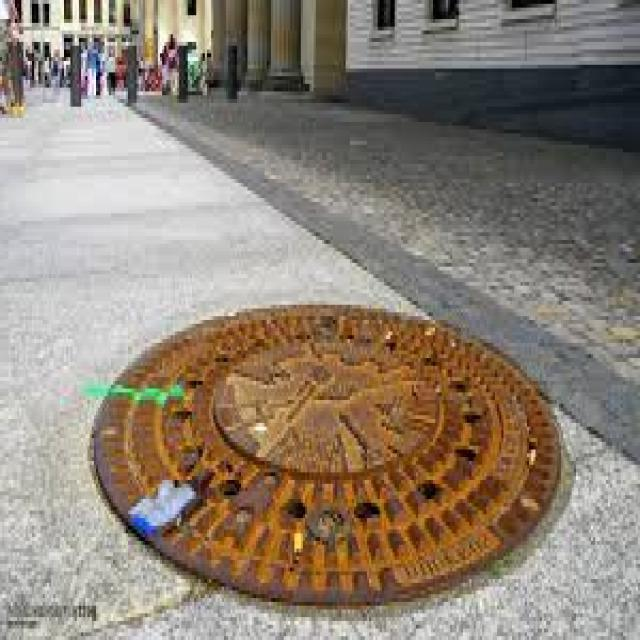Sewer Cover: (70, 301, 587, 640)
